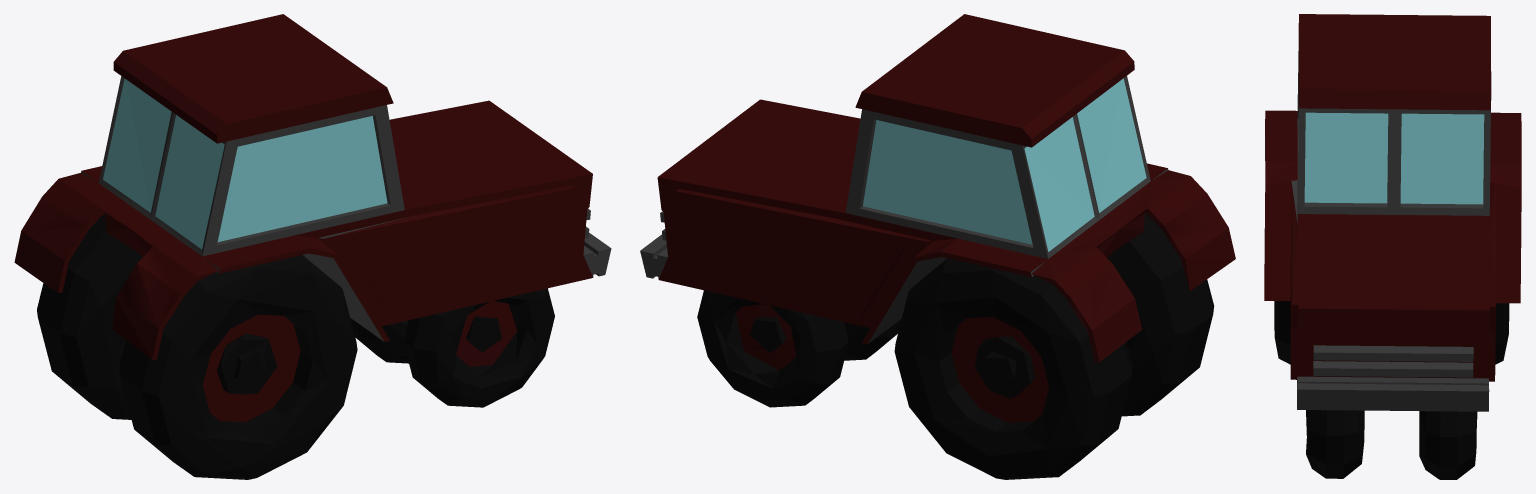
File: tractor.obj
3 views of the same model, side by side, from view 1: azimuth 30°, elevation 25°; view 2: azimuth 150°, elevation 25°; view 3: azimuth 270°, elevation 25° (orthographic). The views are drawn at different scales.
Visible parts, largest first — view 1: Mesh_22.001; view 2: Mesh_22.001; view 3: Mesh_22.001.
Boxes of the visible parts, x1,y1,x2,y2 form: Mesh_22.001: (14, 14, 611, 479); Mesh_22.001: (640, 14, 1235, 479); Mesh_22.001: (1264, 14, 1521, 479).
Bounding box in the file's own units: 3.5 × 2.53 × 1.76.
